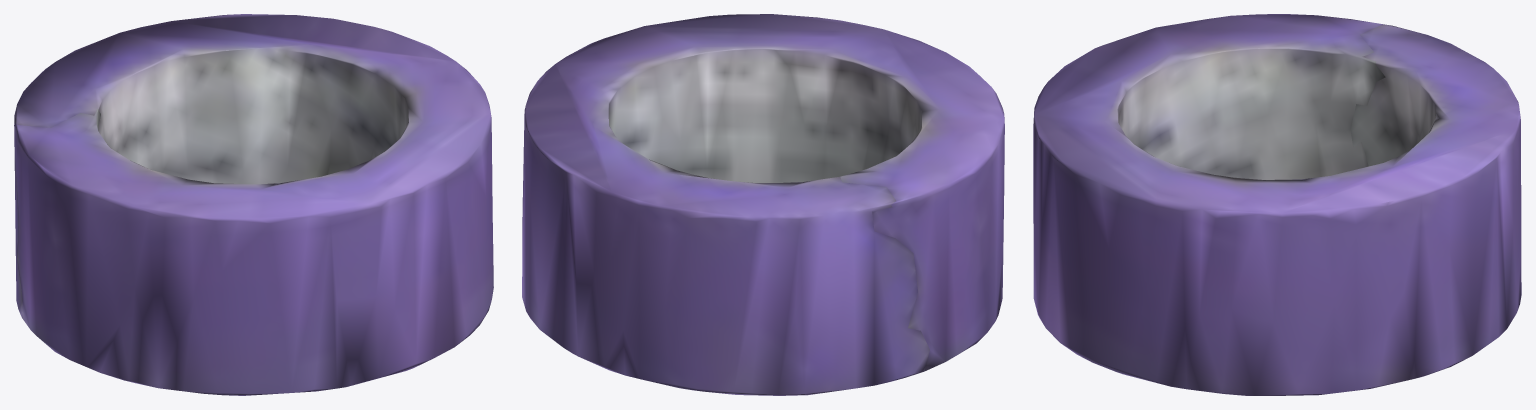
File: Shurtape_Tape_Purple_CP28-medium.glb
3 renders of one model, left to right at view 1: azimuth 30°, elevation 25°; view 2: azimuth 150°, elevation 25°; view 3: azimuth 270°, elevation 25°, orthographic. The views are drawn at different scales.
Parts seen in each view (by area): view 1: Shurtape_Tape_Purple_CP28; view 2: Shurtape_Tape_Purple_CP28; view 3: Shurtape_Tape_Purple_CP28.
Boxes of the visible parts, x1,y1,x2,y2 form: Shurtape_Tape_Purple_CP28: (14, 14, 493, 395); Shurtape_Tape_Purple_CP28: (522, 14, 1004, 395); Shurtape_Tape_Purple_CP28: (1033, 14, 1521, 395).
Size of the model in its own units: 0.118 by 0.0501 by 0.1169.
Materials: 1 (1 with a texture image).
